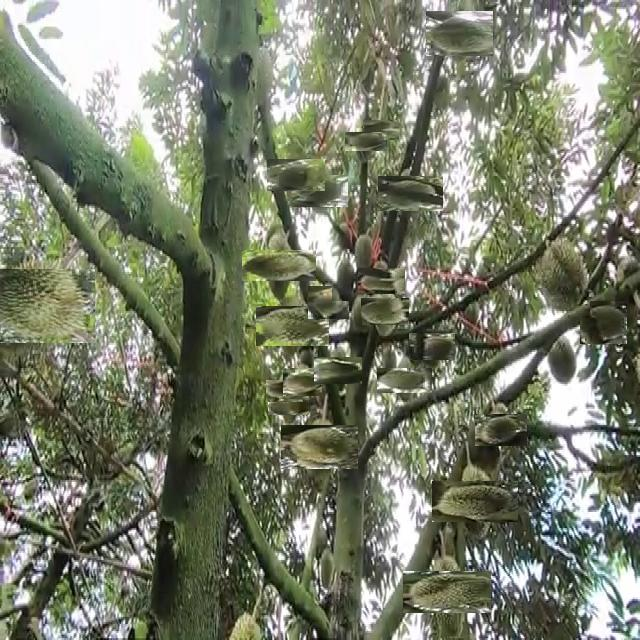durian: (0, 258, 86, 352), (414, 560, 480, 625), (540, 235, 590, 316), (444, 470, 507, 533), (290, 417, 350, 477), (264, 298, 322, 354), (431, 5, 487, 62), (252, 239, 306, 292), (385, 168, 435, 219), (543, 324, 580, 386), (273, 152, 318, 198), (581, 300, 626, 345), (298, 168, 342, 214), (480, 409, 522, 452), (246, 45, 274, 104), (384, 361, 425, 401), (222, 604, 266, 638), (320, 351, 358, 390), (366, 292, 404, 330), (364, 262, 401, 300), (310, 284, 347, 321), (414, 328, 451, 365), (332, 253, 357, 301), (350, 290, 374, 340), (353, 230, 378, 277), (286, 365, 320, 399), (318, 544, 338, 598), (272, 390, 304, 421), (351, 126, 382, 157), (270, 376, 300, 406), (366, 116, 395, 144)
